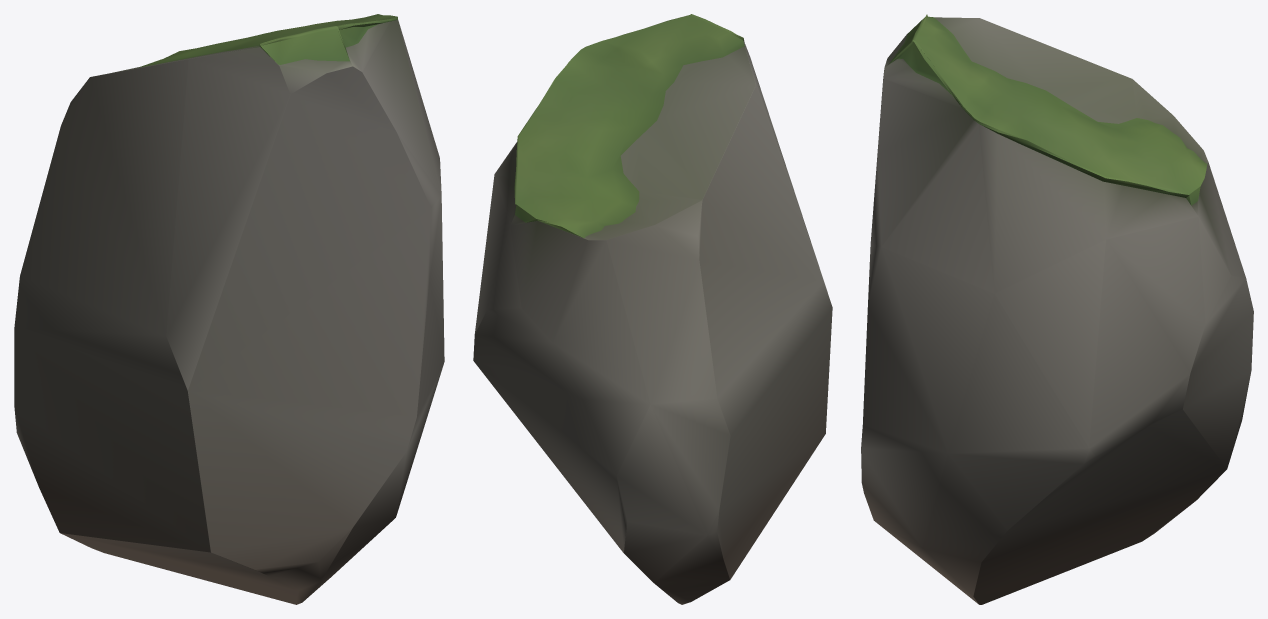
The model's file is boulder_b.glb.
3 renders of one model, left to right at view 1: azimuth 30°, elevation 25°; view 2: azimuth 150°, elevation 25°; view 3: azimuth 270°, elevation 25°, orthographic. The views are drawn at different scales.
Parts seen in each view (by area): view 1: Boulder_b; view 2: Boulder_b; view 3: Boulder_b.
Boxes of the visible parts, x1,y1,x2,y2 form: Boulder_b: [14, 14, 444, 604]; Boulder_b: [473, 14, 832, 604]; Boulder_b: [861, 14, 1253, 604].
Bounding box in the file's own units: 0.6204 × 1.06 × 0.6659.
